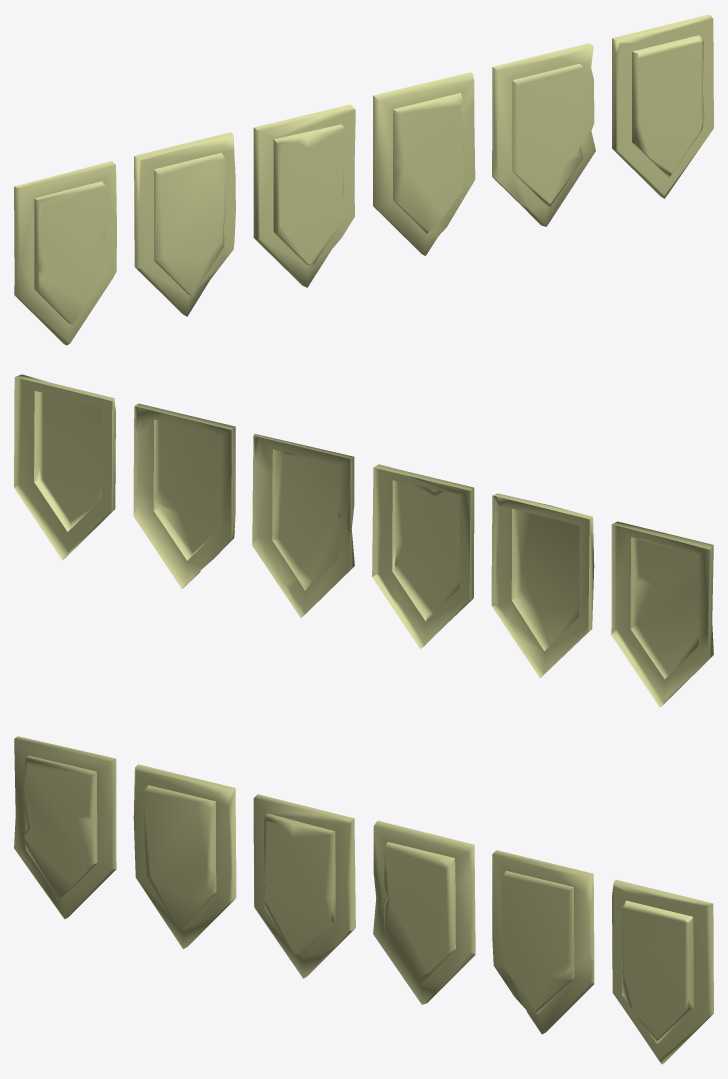
File: Ornament_shield_1a.fbx
3 views of the same model, one above another, from view 1: azimuth 30°, elevation 25°; view 2: azimuth 150°, elevation 25°; view 3: azimuth 330°, elevation 25° (orthographic).
Visible parts, largest first — view 1: Ornament_shield_1a_LOD0; view 2: Ornament_shield_1a_LOD0; view 3: Ornament_shield_1a_LOD0.
Boxes of the visible parts, x1,y1,x2,y2 form: Ornament_shield_1a_LOD0: [14, 14, 713, 345]; Ornament_shield_1a_LOD0: [14, 374, 713, 707]; Ornament_shield_1a_LOD0: [14, 736, 713, 1064].
Size of what is drawn, in the model's own units: 168 by 40.04 by 4.53.
